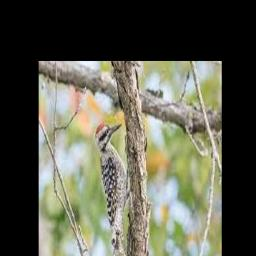Woodpecker: (95, 123, 129, 256)
